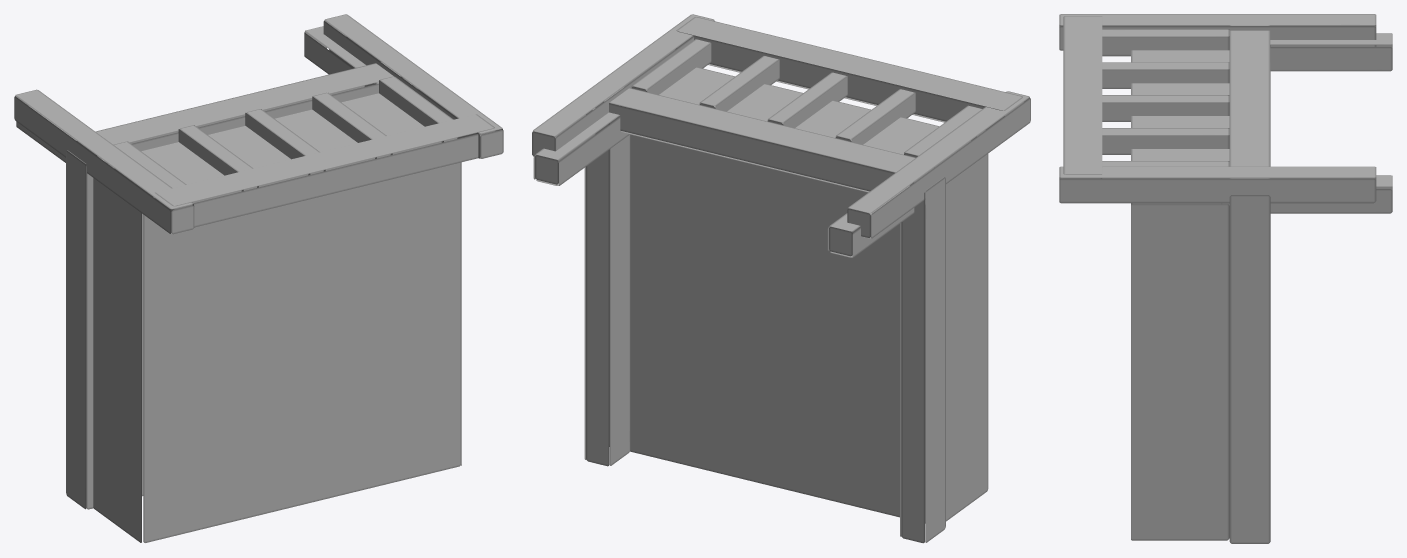
Rendered from pz_bed_bedding_01_hospital_0_1.obj.
3 renders of one model, left to right at view 1: azimuth 30°, elevation 25°; view 2: azimuth 150°, elevation 25°; view 3: azimuth 270°, elevation 25°, orthographic. The views are drawn at different scales.
Visible parts, largest first — view 1: root; view 2: root; view 3: root.
Boxes of the visible parts, <box> form: root: <box>14,14,503,542</box>; root: <box>532,14,1030,543</box>; root: <box>1059,14,1392,543</box>.
Bounding box in the file's own units: 0.95 × 0.985 × 0.8129.
1 material, 1 textured.
